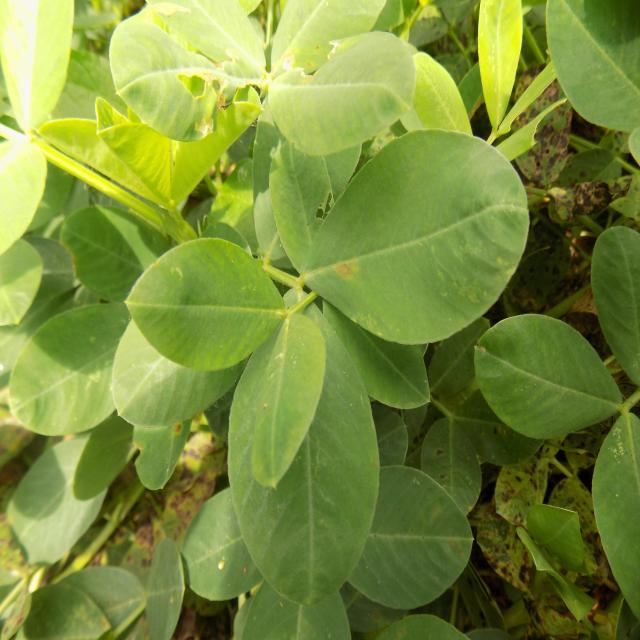Ground nut_healthy: (294, 130, 530, 350), (228, 288, 382, 606), (128, 239, 288, 373), (475, 312, 625, 439)
